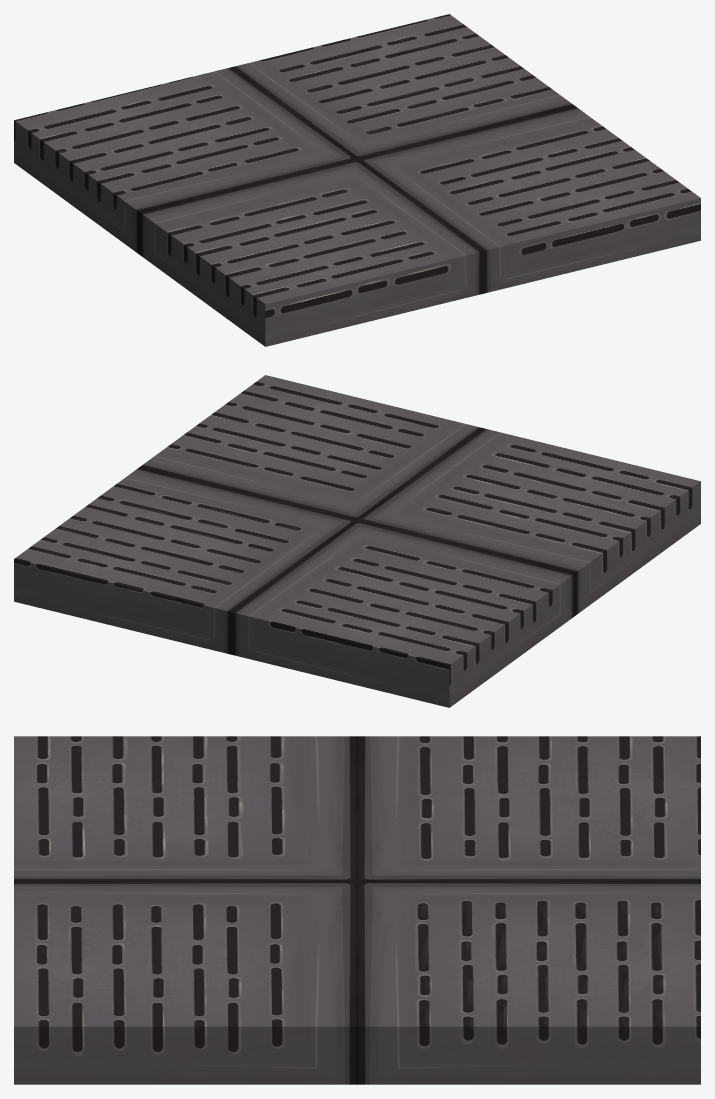
Rendered from Floor side panel.fbx.
The picture shows the model from 3 angles, top to bottom: view 1: azimuth 30°, elevation 25°; view 2: azimuth 150°, elevation 25°; view 3: azimuth 270°, elevation 25°; orthographic projection. The views are drawn at different scales.
Visible parts, largest first — view 1: floor_side_panel; view 2: floor_side_panel; view 3: floor_side_panel.
Part boxes in pixels (<box>): floor_side_panel: <box>14,14,700,346</box>; floor_side_panel: <box>14,375,700,707</box>; floor_side_panel: <box>14,736,700,1084</box>.
Size of the model in its own units: 3 by 0.2803 by 3.
